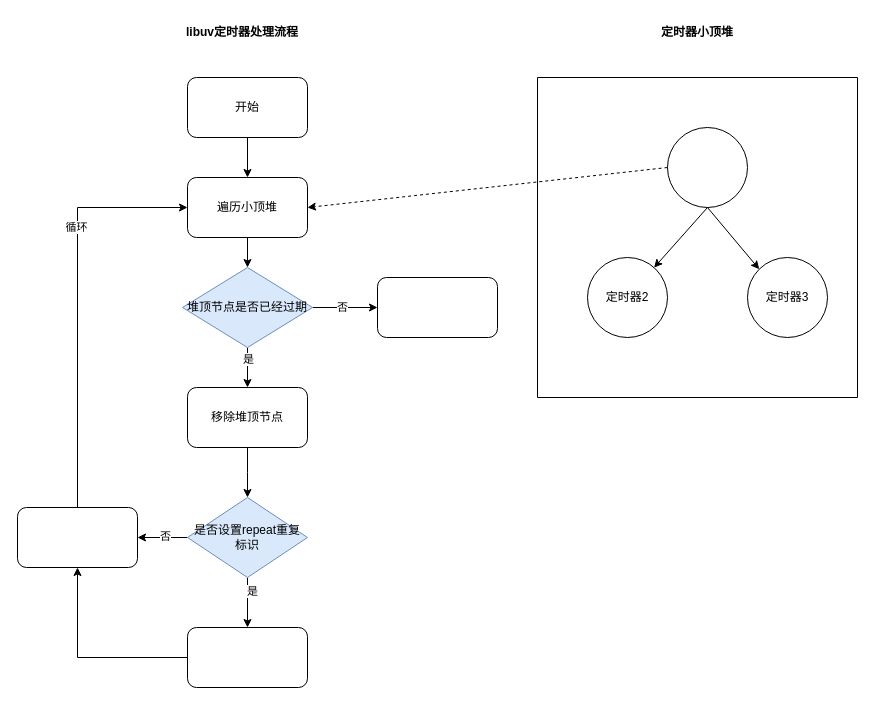
Image size: 875x705. Some labels were removed from this diagram. The shapes that lost their labels are listed below. From the top down, each one's centre as x and y in pixels, then its label:
At pixel 707 167: "定时器1".
At pixel 437 307: "结束".
At pixel 77 537: "执行定时的回调".
At pixel 247 657: "重新插入小顶堆".
